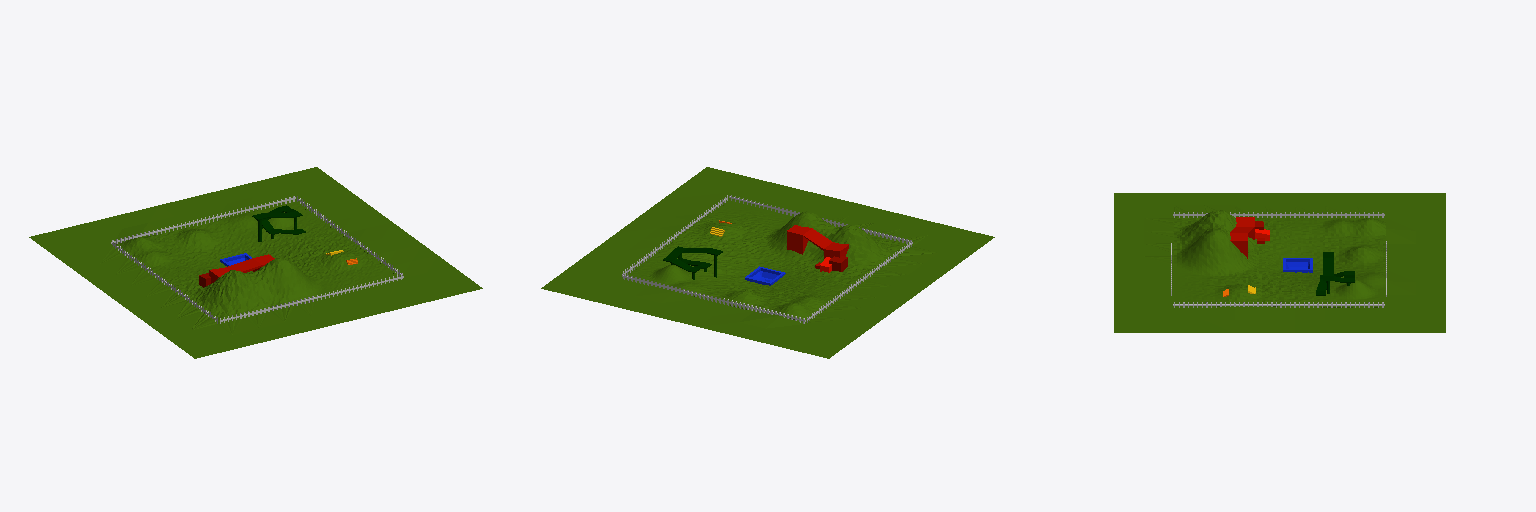
Rendered from park.obj.
3 views of the same model, side by side, from view 1: azimuth 30°, elevation 25°; view 2: azimuth 150°, elevation 25°; view 3: azimuth 270°, elevation 25° (orthographic).
Visible parts, largest first — view 1: Plane.003_Plane.004, Cube, Cube.009_Cube.010; view 2: Plane.003_Plane.004, Cube.009_Cube.010, Cube; view 3: Plane.003_Plane.004, Cube, Cube.009_Cube.010.
Part boxes in pixels (x1,y1,x2,y2): Plane.003_Plane.004: (29, 167, 482, 358); Cube: (252, 205, 305, 234); Cube.009_Cube.010: (209, 254, 274, 283); Plane.003_Plane.004: (541, 167, 994, 358); Cube.009_Cube.010: (787, 225, 848, 258); Cube: (663, 246, 722, 272); Plane.003_Plane.004: (1114, 193, 1445, 332); Cube: (1316, 252, 1354, 295); Cube.009_Cube.010: (1230, 217, 1254, 258).
Size of the model in its own units: 35.18 by 5.16 by 35.18.